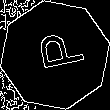P_W: (26, 31, 84, 79)
